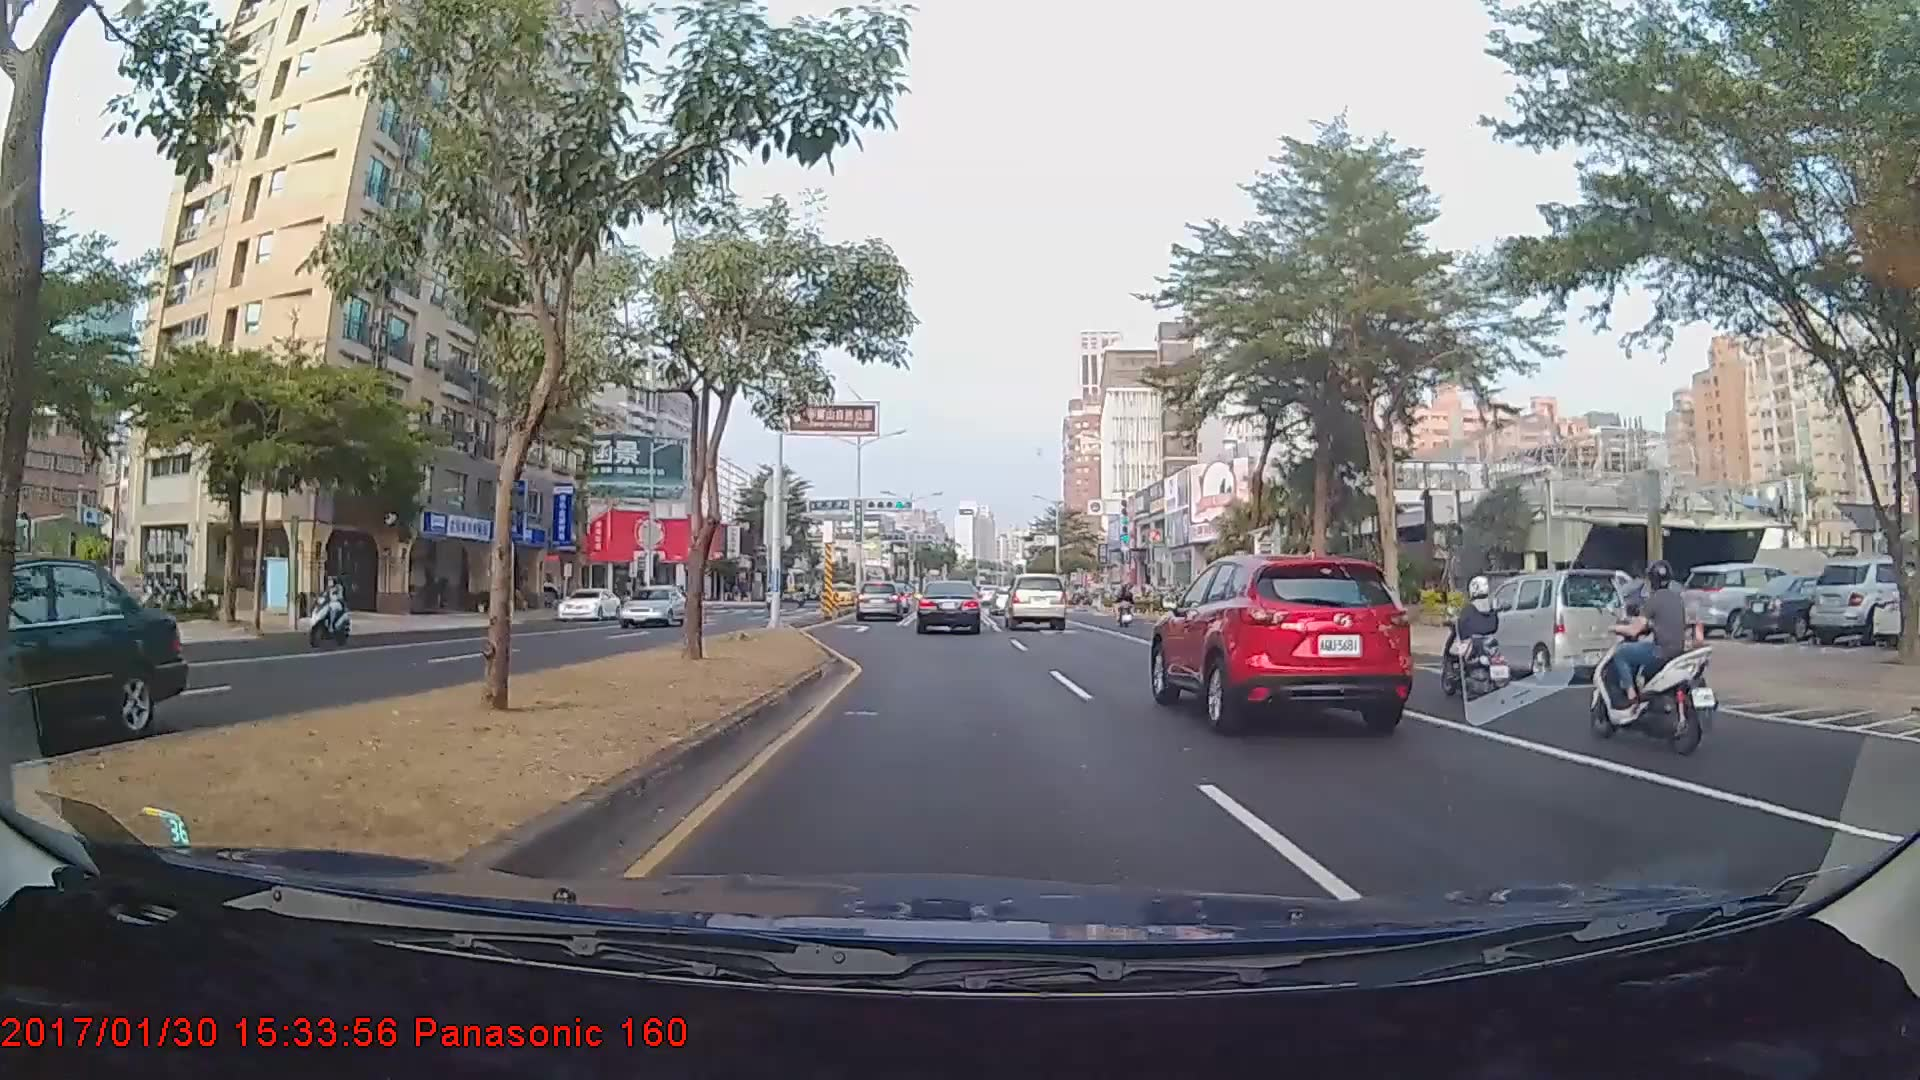rider: (1579, 554, 1720, 752), (1430, 572, 1528, 713), (304, 571, 355, 647), (1117, 588, 1139, 631)
vehicle: (1151, 546, 1413, 727), (0, 555, 187, 762), (1465, 567, 1632, 685), (1677, 563, 1805, 637), (1004, 572, 1067, 630), (917, 580, 982, 634), (617, 583, 689, 627), (853, 581, 908, 623), (556, 586, 621, 619)
